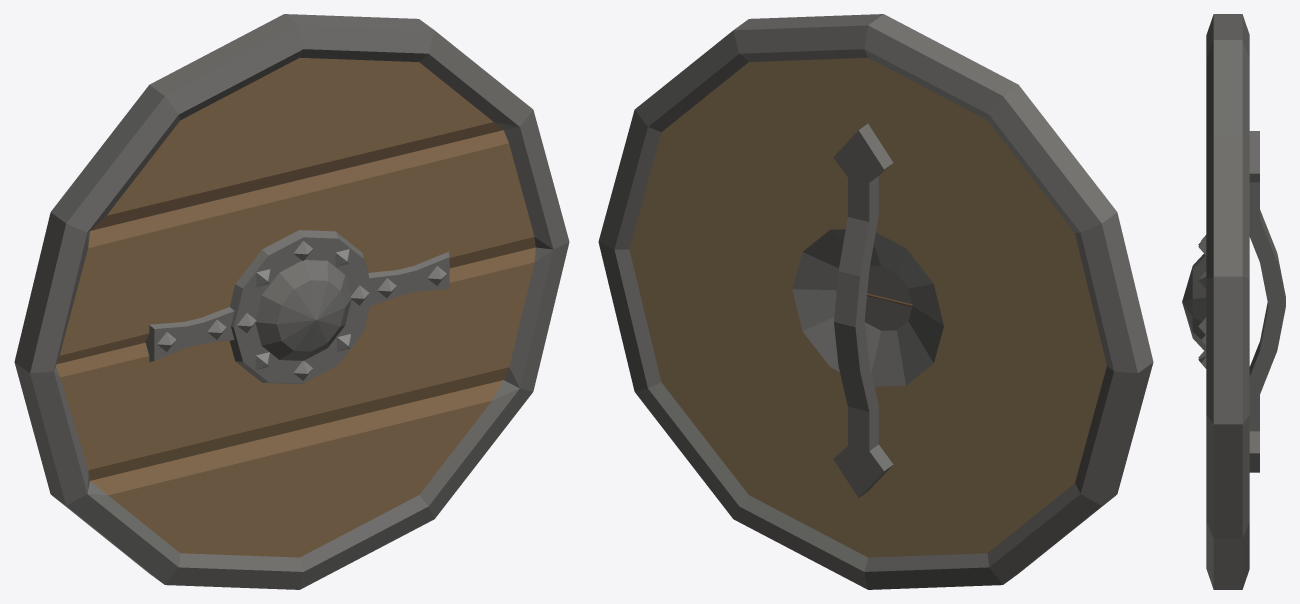
The model's file is SM_pwe_slavic_shield_02b.fbx.
3 renders of one model, left to right at view 1: azimuth 30°, elevation 25°; view 2: azimuth 150°, elevation 25°; view 3: azimuth 270°, elevation 25°, orthographic. The views are drawn at different scales.
Parts seen in each view (by area): view 1: SM_pwe_slavic_shield_02b; view 2: SM_pwe_slavic_shield_02b; view 3: SM_pwe_slavic_shield_02b.
Part boxes in pixels (x1,y1,x2,y2): SM_pwe_slavic_shield_02b: (14, 14, 569, 589); SM_pwe_slavic_shield_02b: (598, 14, 1153, 589); SM_pwe_slavic_shield_02b: (1182, 14, 1285, 589).
Bounding box in the file's own units: 70.52 × 70.52 × 12.67.
